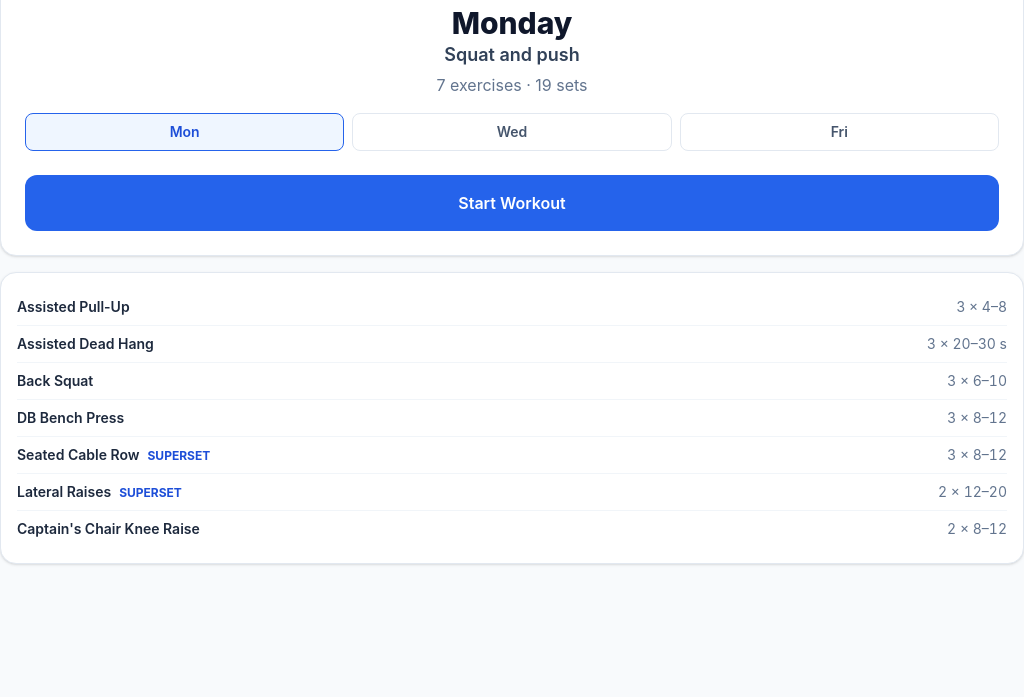
Strength runs Preset Programme 1 (S-004, spec §10.1) › starts each set at the bottom of its range, reps first, then weight, labelled beneath
Step 1. Click the button "Start Workout" → (512, 203), box [25, 175, 999, 231]
(page scrolled)
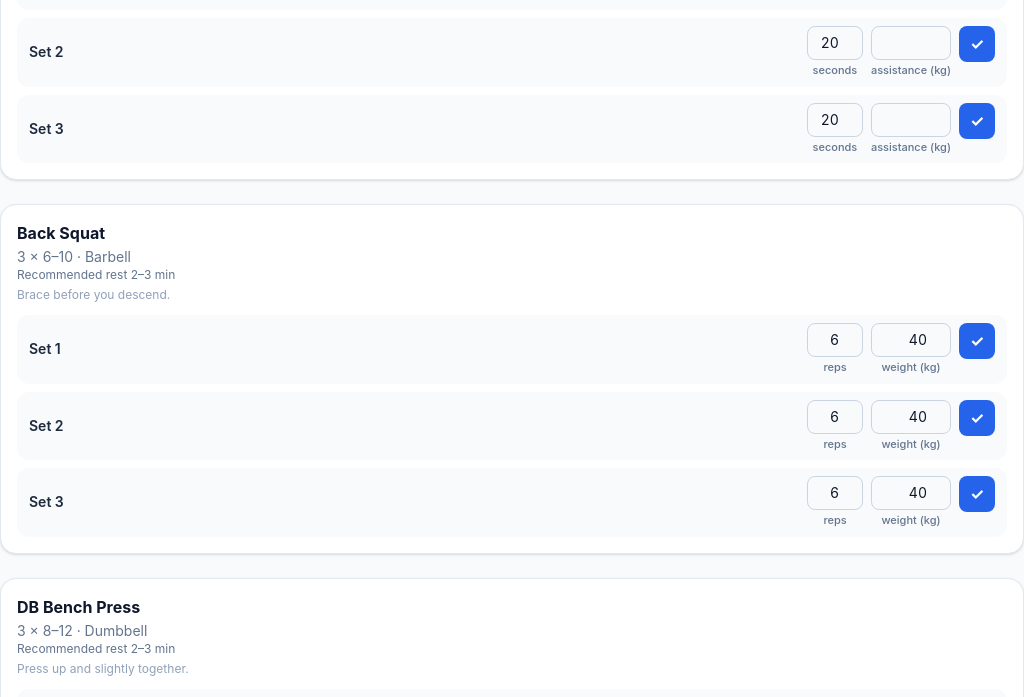
Check: the text "3 × 6–10 · Barbell" is shown, box [17, 248, 131, 265]
Check: the text "reps" is shown 3 times, box [823, 359, 847, 376]; [823, 436, 847, 452]; [823, 512, 847, 528]
Check: the text "weight (kg)" is shown 3 times, box [881, 359, 941, 376]; [881, 436, 941, 452]; [881, 512, 941, 528]
